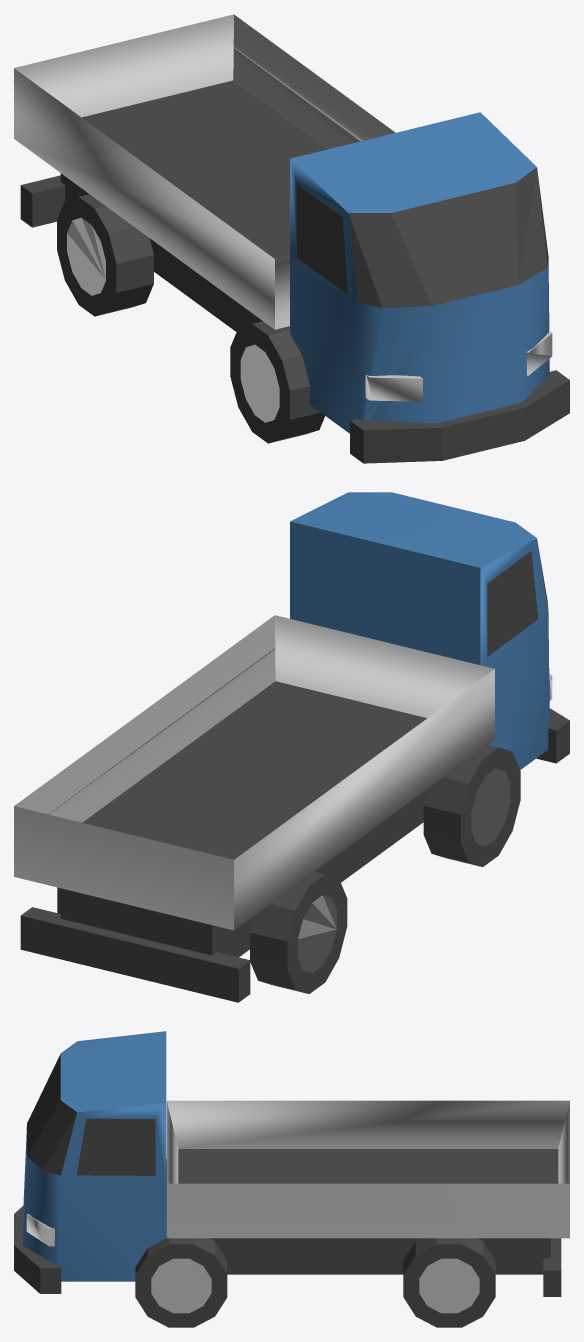
File: lorry.dae
3 views of the same model, one above another, from view 1: azimuth 30°, elevation 25°; view 2: azimuth 150°, elevation 25°; view 3: azimuth 270°, elevation 25° (orthographic). The views are drawn at different scales.
Visible parts, largest first — view 1: polymsh1_Pts_Material__1__Surf, polymsh1_Pts_Material__3__Surf, polymsh1_Pts_Material__2__Surf; view 2: polymsh1_Pts_Material__3__Surf, polymsh1_Pts_Material__1__Surf, polymsh1_Pts_Material__2__Surf; view 3: polymsh1_Pts_Material__3__Surf, polymsh1_Pts_Material__1__Surf, polymsh1_Pts_Material__2__Surf.
Boxes of the visible parts, x1=… form: polymsh1_Pts_Material__1__Surf: x1=20, y1=80, x2=569, y2=463; polymsh1_Pts_Material__3__Surf: x1=14, y1=14, x2=552, y2=422; polymsh1_Pts_Material__2__Surf: x1=290, y1=112, x2=549, y2=433; polymsh1_Pts_Material__3__Surf: x1=14, y1=615, x2=552, y2=973; polymsh1_Pts_Material__1__Surf: x1=20, y1=551, x2=569, y2=1002; polymsh1_Pts_Material__2__Surf: x1=290, y1=492, x2=549, y2=769; polymsh1_Pts_Material__3__Surf: x1=26, y1=1100, x2=569, y2=1313; polymsh1_Pts_Material__1__Surf: x1=14, y1=1054, x2=561, y2=1327; polymsh1_Pts_Material__2__Surf: x1=23, y1=1031, x2=166, y2=1281.
Bounding box in the file's own units: 20.45 × 23.88 × 55.35.
